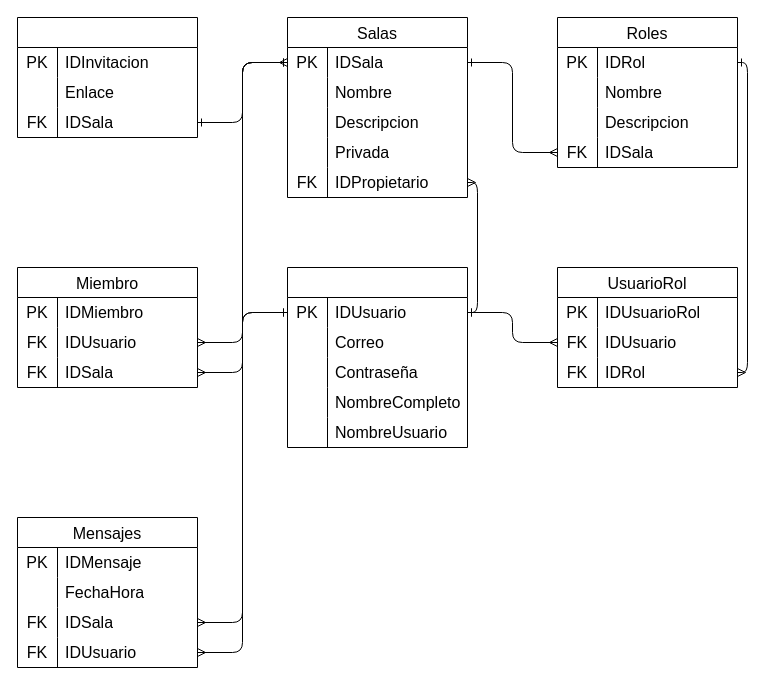
The diagram is 774 pixels wide and 685 high, and some of its shapes have lost their labels. The box of each missing label's shape, as (x1, y1, x2, y2) in pixels:
Invitaciones: (16, 16, 198, 138)
Usuarios: (286, 266, 468, 448)
